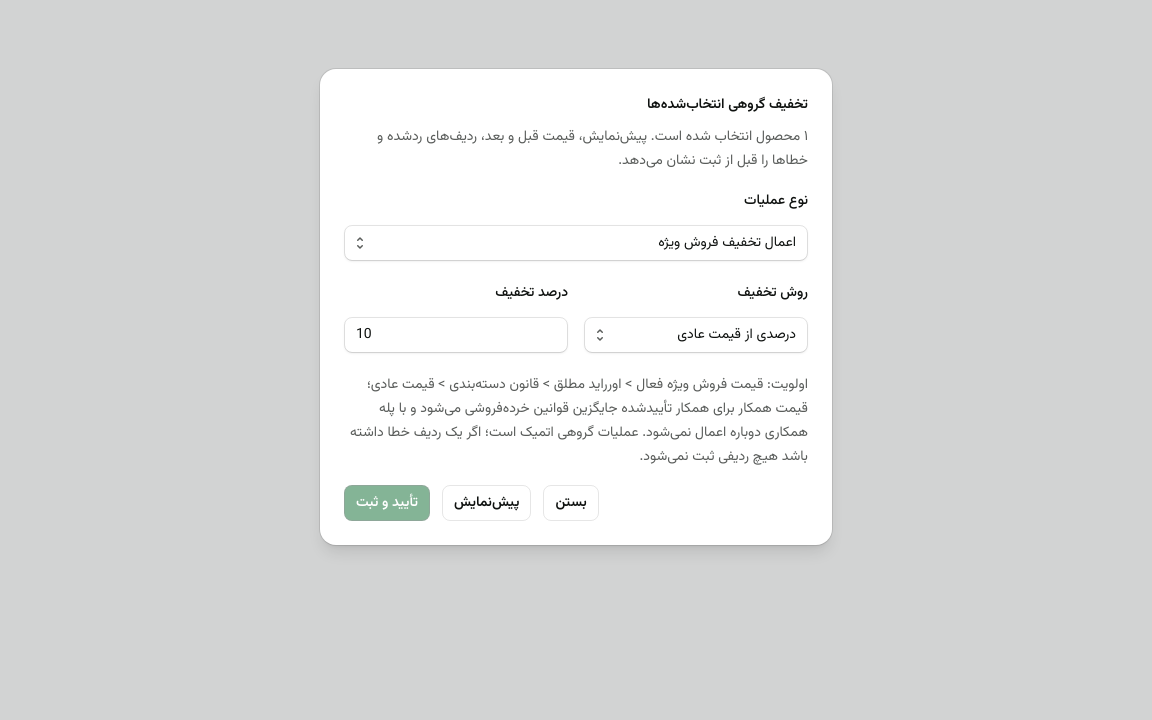
Test case: BulkPriceDialog › requires a preview and applies only the previewed token
Later steps or results of the test are not shown.
Click the button "پیش‌نمایش": (487, 503) [442,485,531,521]
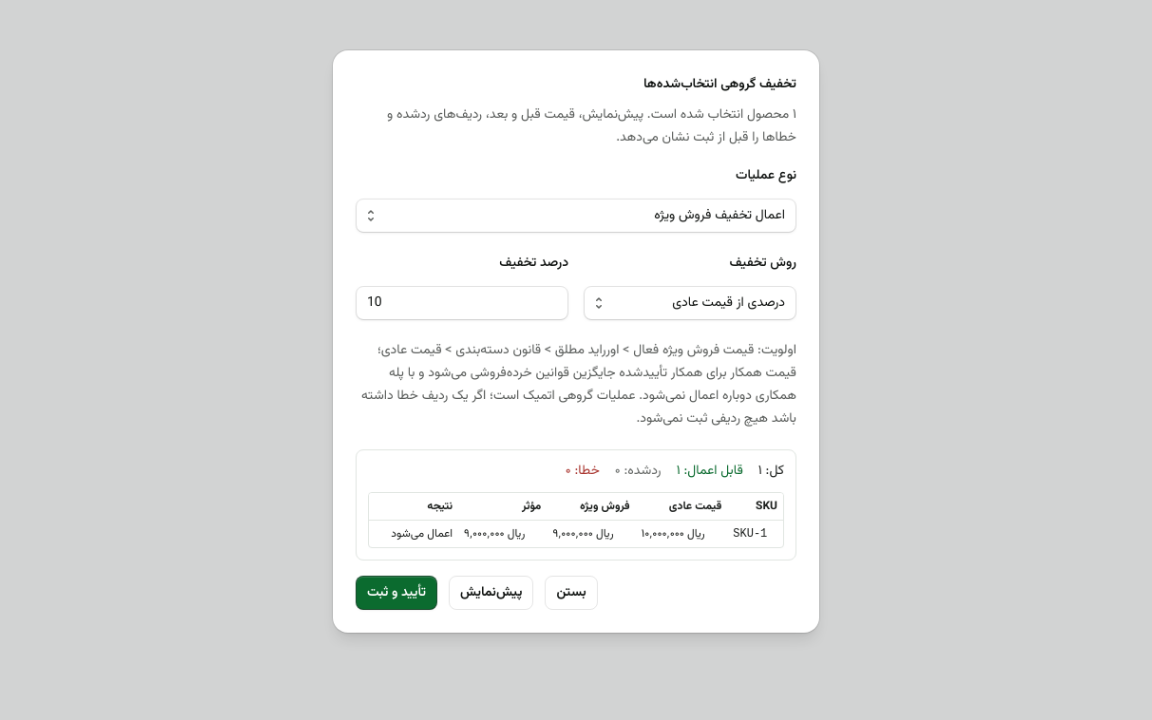
Expected: the text "قابل اعمال: ۱" is shown, [676,461,743,480]
Expected: the 2nd text "۹٬۰۰۰٬۰۰۰ ریال" is shown, [547,520,636,547]
